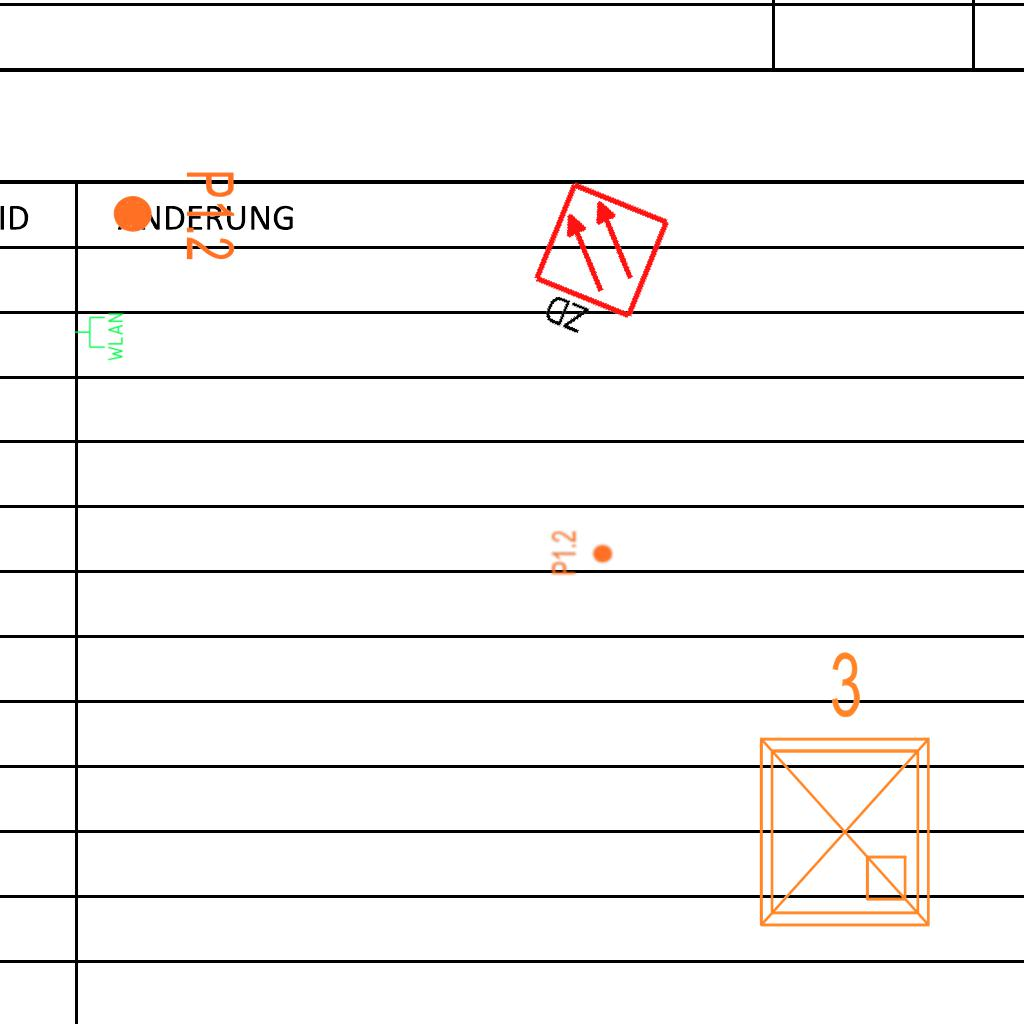Downlight_LED_Einbauleuchten_Flur: (110, 169, 238, 262), (550, 530, 614, 576)
Einbaudownlights_LED_Konferenzraeume: (737, 641, 945, 941)
WLAN: (73, 311, 125, 363)
ZD_Melder_in_Zwischendecke_mit_Revisionsoeffnung_mind_40_x_40_cm: (515, 178, 677, 359)
